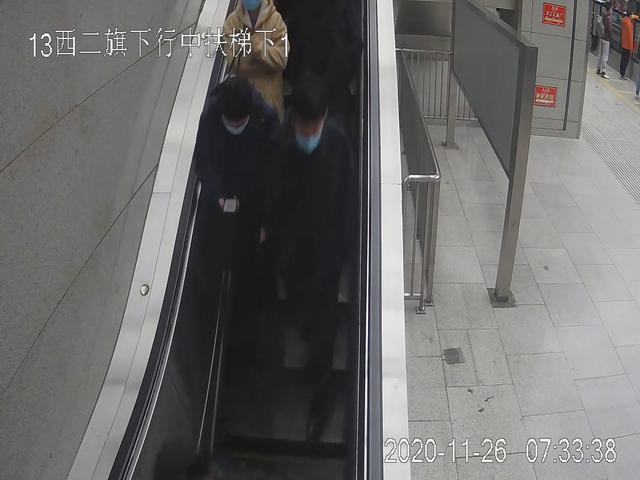person: (276, 81, 355, 442), (200, 78, 286, 364), (219, 1, 290, 225), (594, 4, 612, 75), (619, 9, 634, 79)
